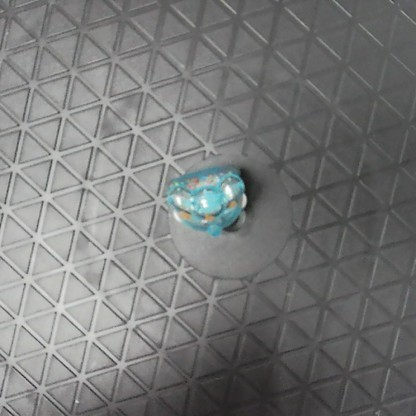bluefish: (161, 164, 251, 236)
